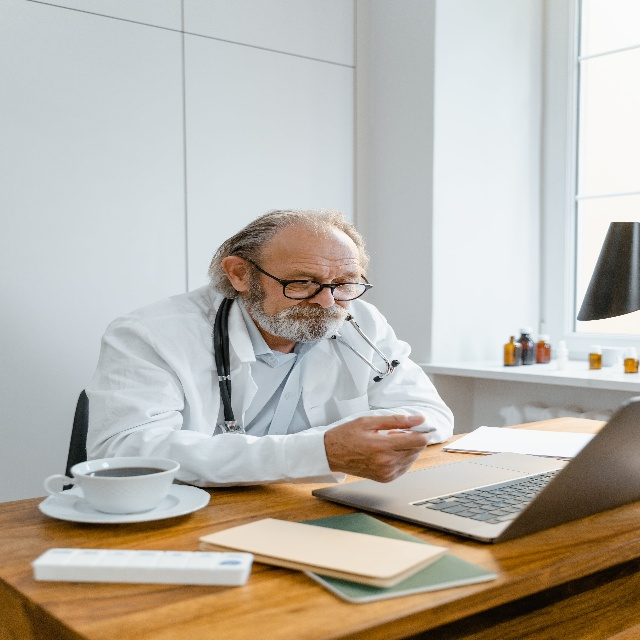Gafas: (245, 256, 373, 304)
Sin_guantes: (326, 414, 432, 485)
